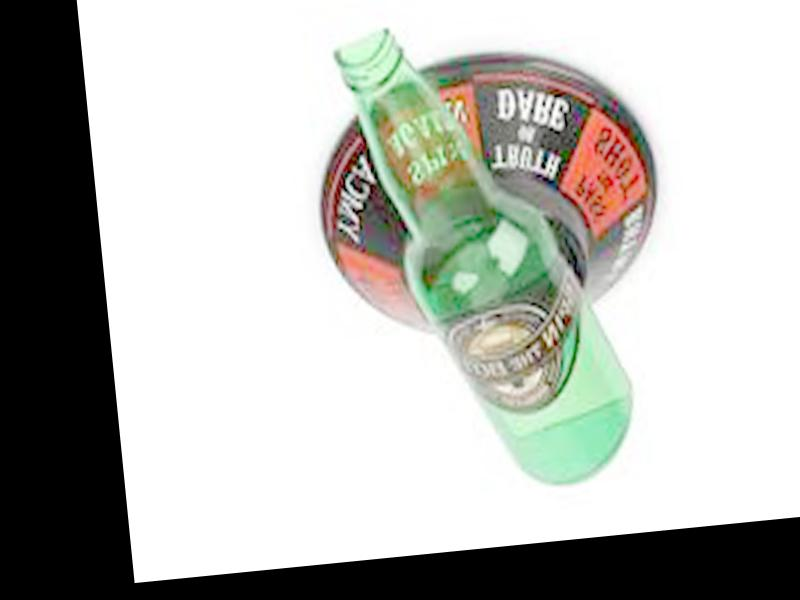Beer: (334, 6, 643, 502)
